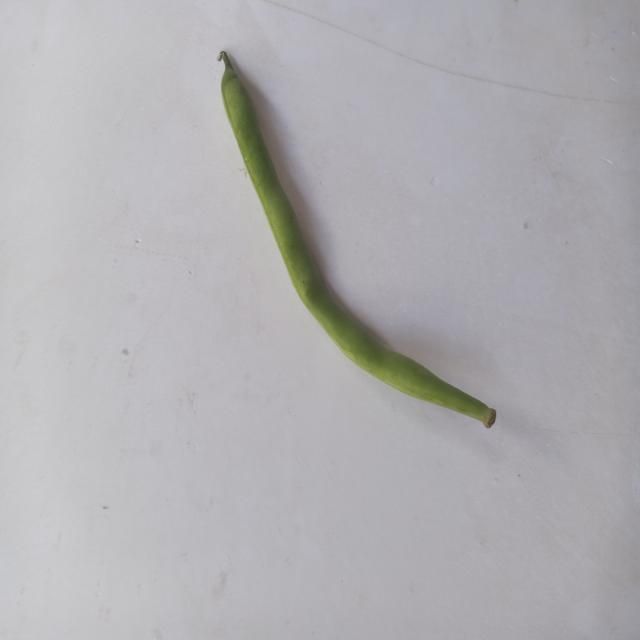Beans: (199, 41, 507, 275), (202, 50, 427, 356)
